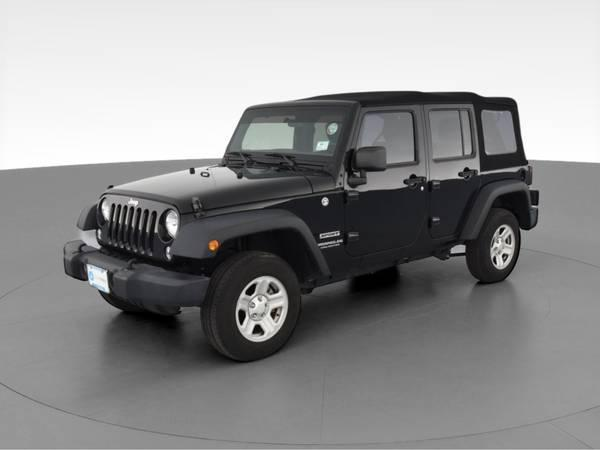Front_Bumper: (60, 240, 209, 309)
Front_Fender: (176, 187, 349, 276)
Front_Left_Door: (343, 164, 431, 276)
Front_Left_Window: (344, 107, 424, 177)
Front_Windshield: (221, 106, 357, 179)
Grille: (97, 193, 176, 262)
Hood: (99, 164, 342, 212)
Left_Headlight: (160, 208, 181, 241)
Rear_Fender: (460, 106, 532, 242)
Rear_Left_Window: (422, 106, 483, 172)
Rear_Right_Door: (429, 160, 481, 254)
Right_Headlight: (96, 199, 108, 226)
Roof: (246, 88, 515, 108)
Wheel: (200, 247, 305, 365), (464, 209, 522, 284)
